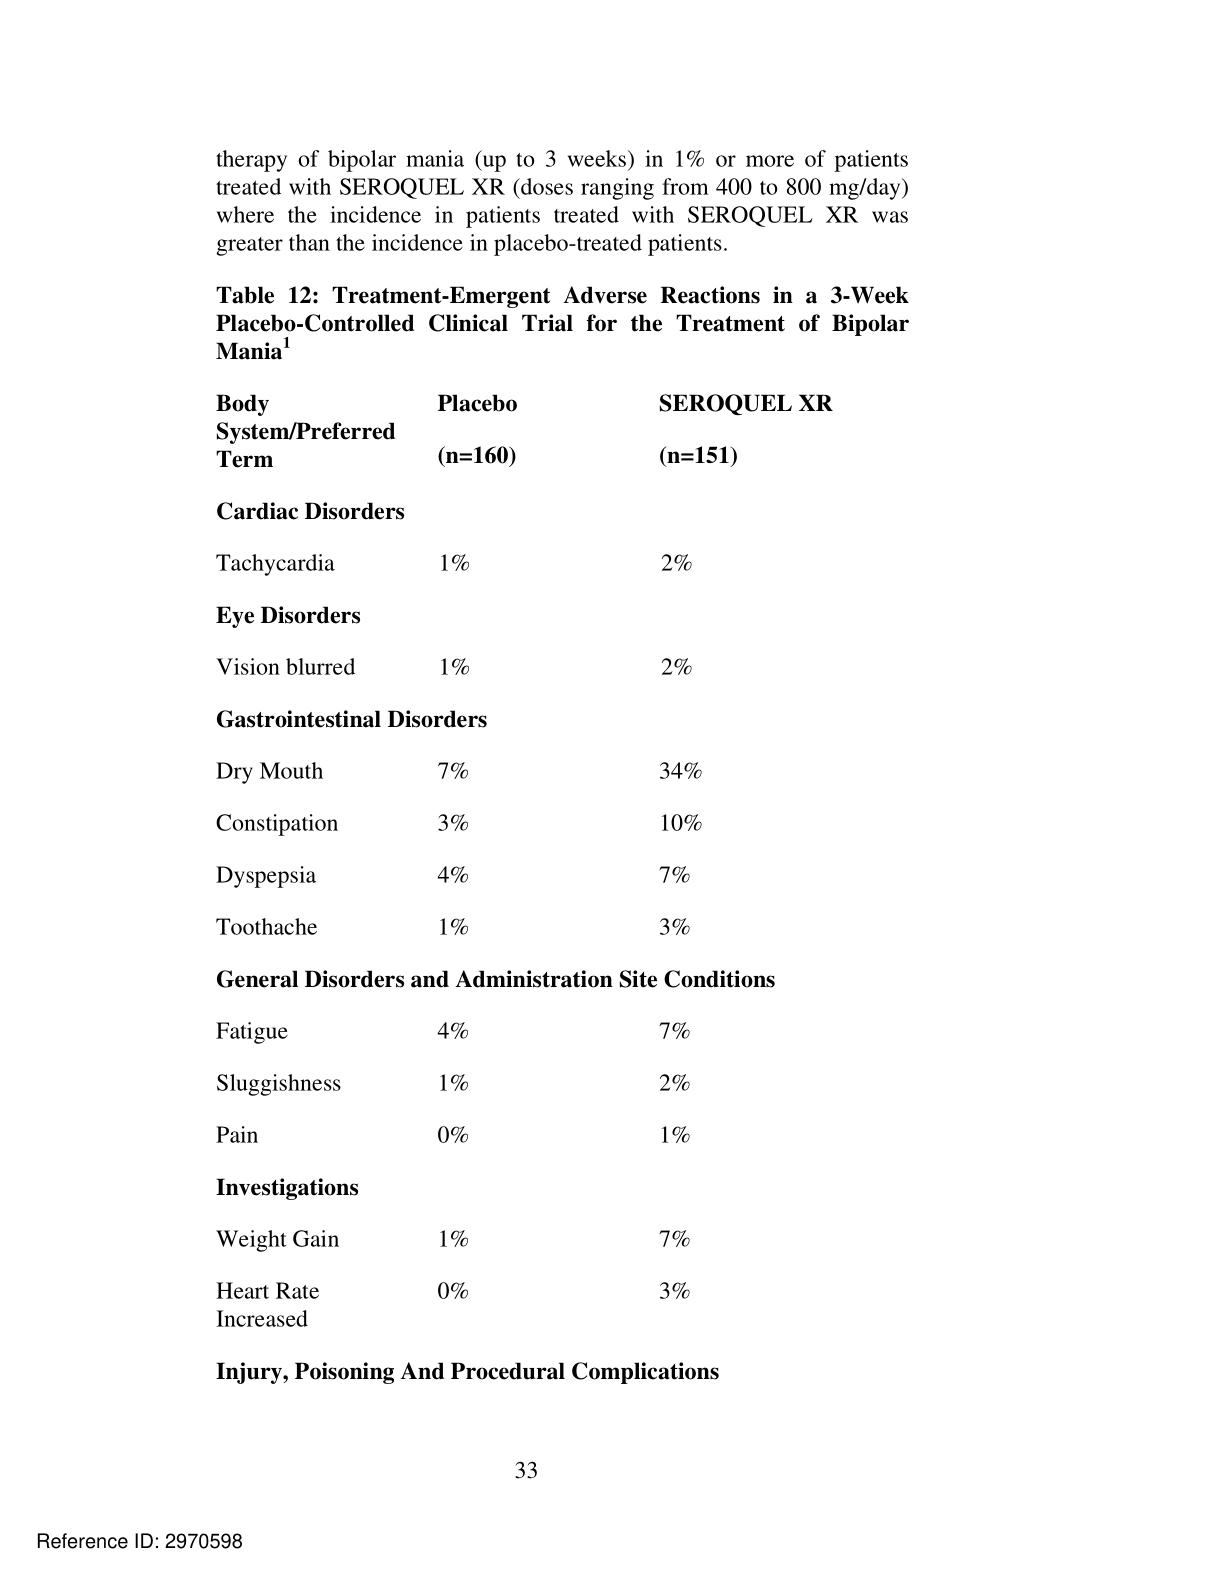nolines: (208, 390, 836, 1332)
